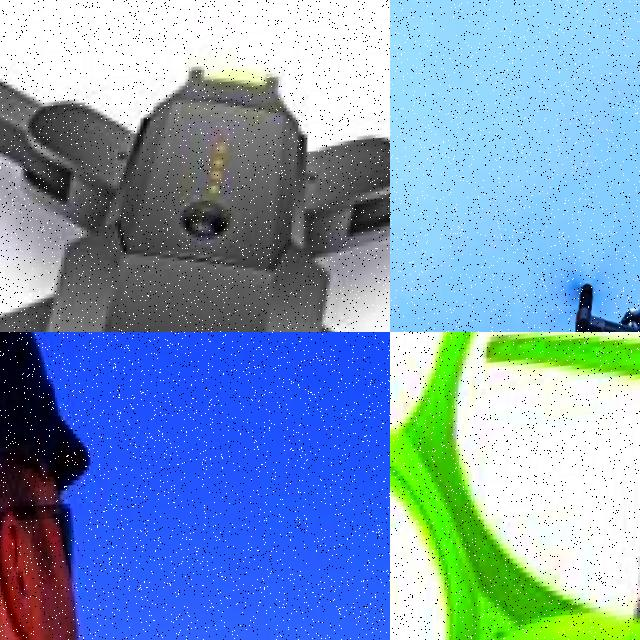drone: (0, 0, 390, 332), (390, 332, 640, 640), (543, 173, 640, 332)
